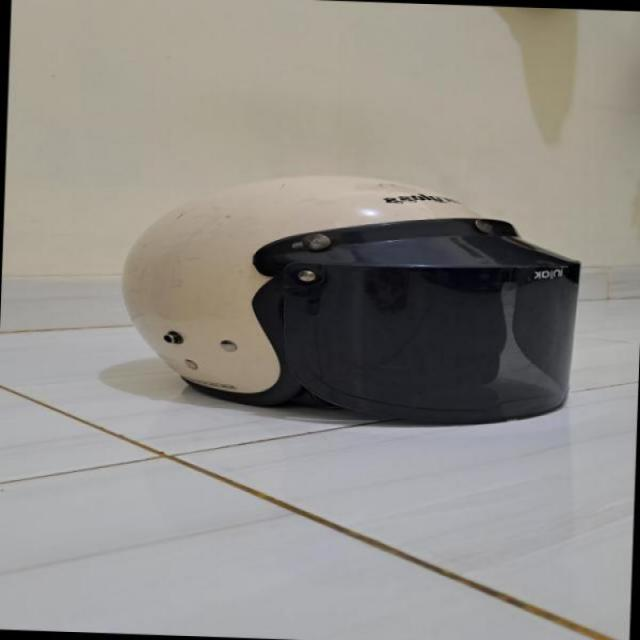Helmet: (118, 164, 582, 456)
